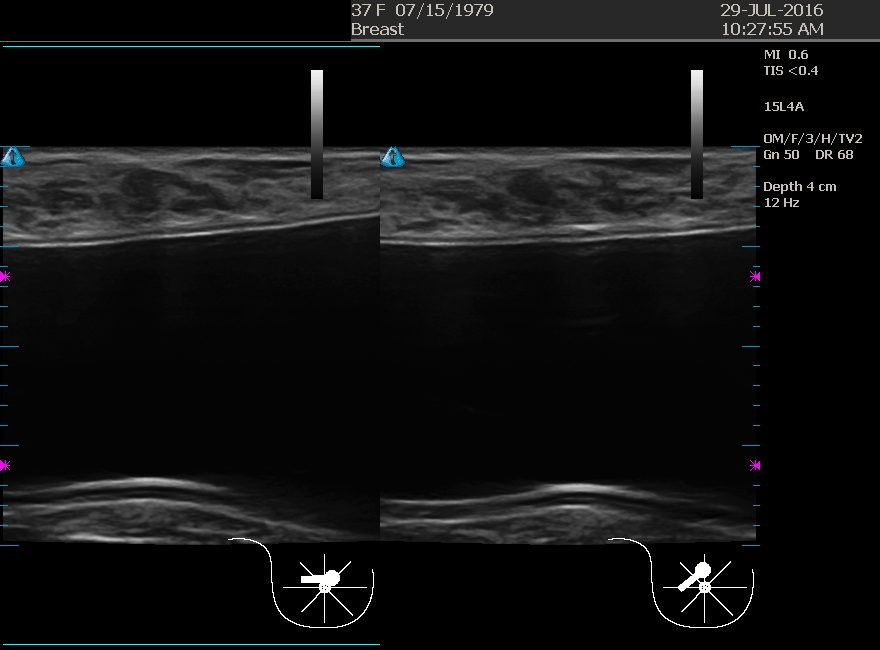BIRADS_2: (64, 150, 264, 350), (440, 157, 640, 357)
